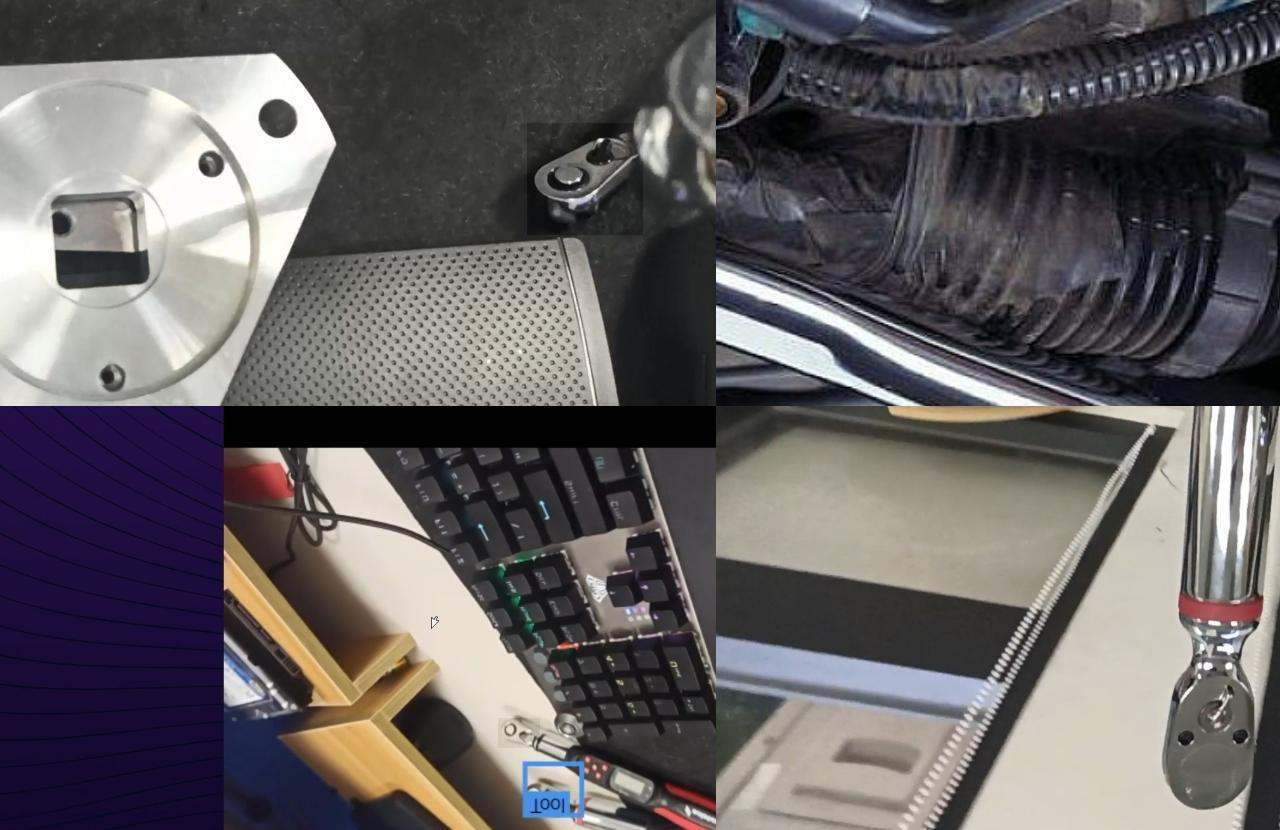Tool: (1162, 644, 1268, 810), (527, 123, 643, 235), (498, 718, 540, 748)
